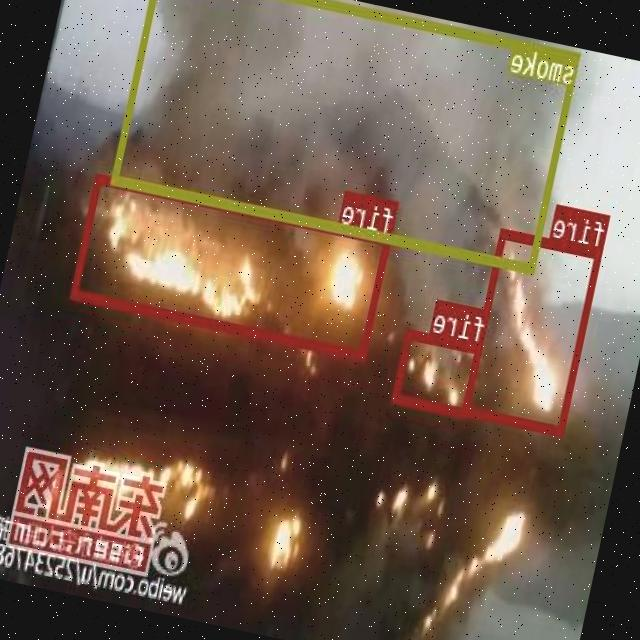fire: (71, 171, 393, 359), (463, 227, 604, 433), (393, 328, 485, 417)
smoke: (113, 0, 582, 271)
